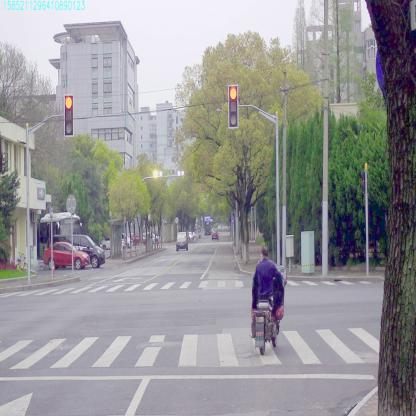traffic-light: (228, 85, 238, 127), (64, 95, 74, 136)
